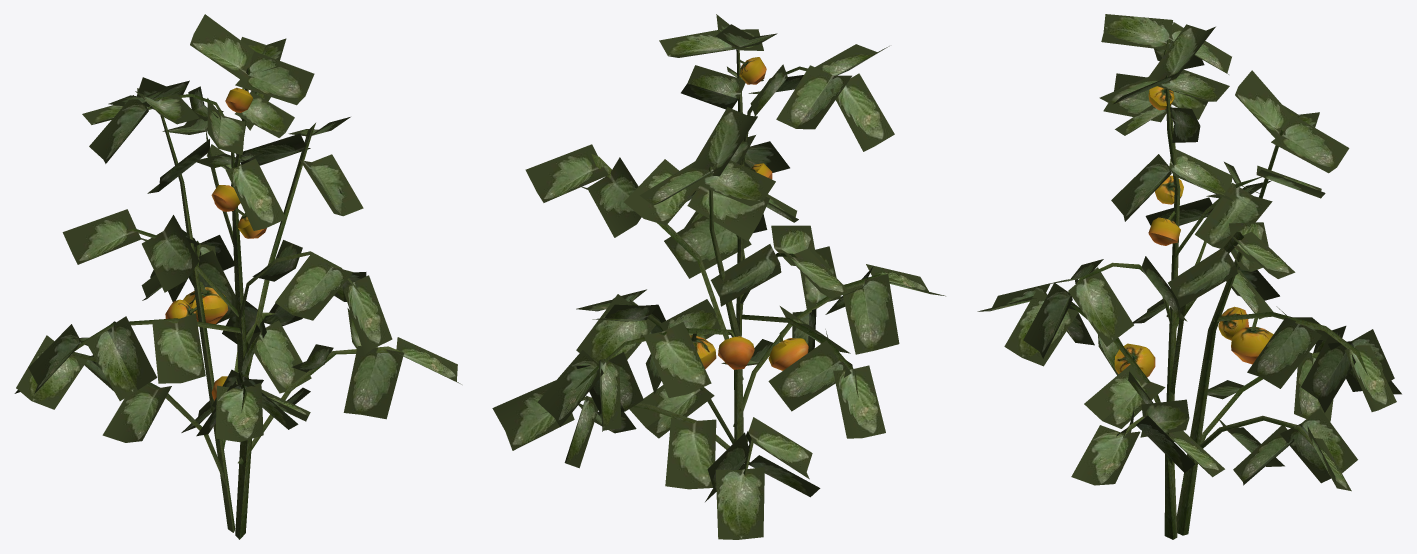
The model's file is 柿子树(1).glb.
3 views of the same model, side by side, from view 1: azimuth 30°, elevation 25°; view 2: azimuth 150°, elevation 25°; view 3: azimuth 270°, elevation 25° (orthographic). The views are drawn at different scales.
Visible parts, largest first — view 1: Component2-03 - Default, Component4-Material #4679; view 2: Component2-03 - Default, Component4-Material #4679; view 3: Component2-03 - Default, Component4-Material #4679.
Boxes of the visible parts, x1,y1,x2,y2 form: Component2-03 - Default: [14, 14, 461, 539]; Component4-Material #4679: [165, 87, 266, 400]; Component2-03 - Default: [492, 14, 945, 539]; Component4-Material #4679: [689, 57, 808, 370]; Component2-03 - Default: [977, 14, 1401, 539]; Component4-Material #4679: [1114, 86, 1273, 377].
Bounding box in the file's own units: 70.12 × 94.26 × 71.93.
2 materials, 2 textured.
